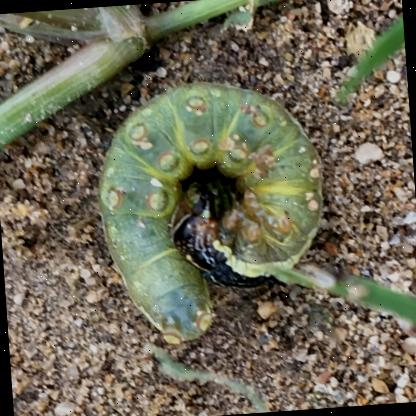Fall Armyworm Larvae: (84, 70, 339, 354)
